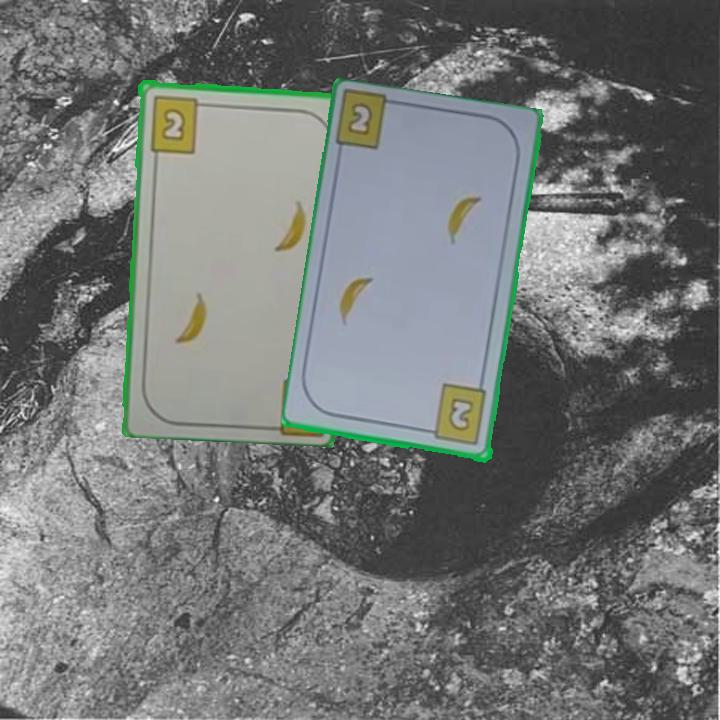2b: (422, 382, 490, 449), (146, 92, 210, 155), (347, 102, 374, 136)
